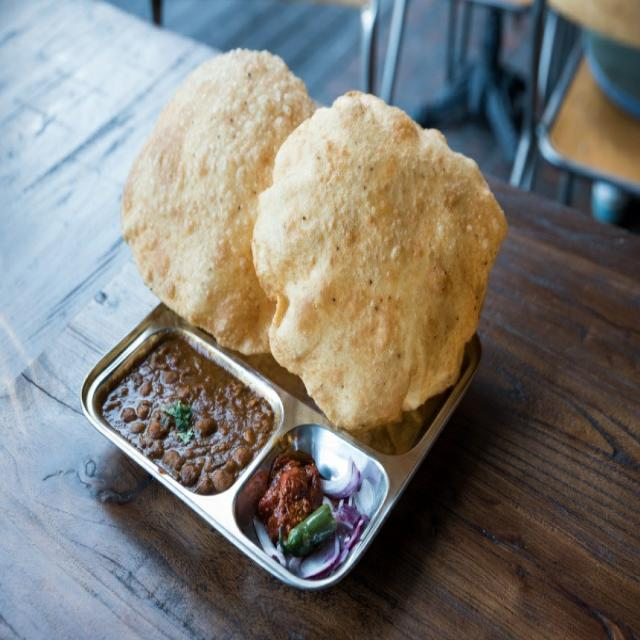Bhatura: (251, 91, 506, 427), (123, 49, 319, 353)
Chole: (100, 328, 276, 497)
